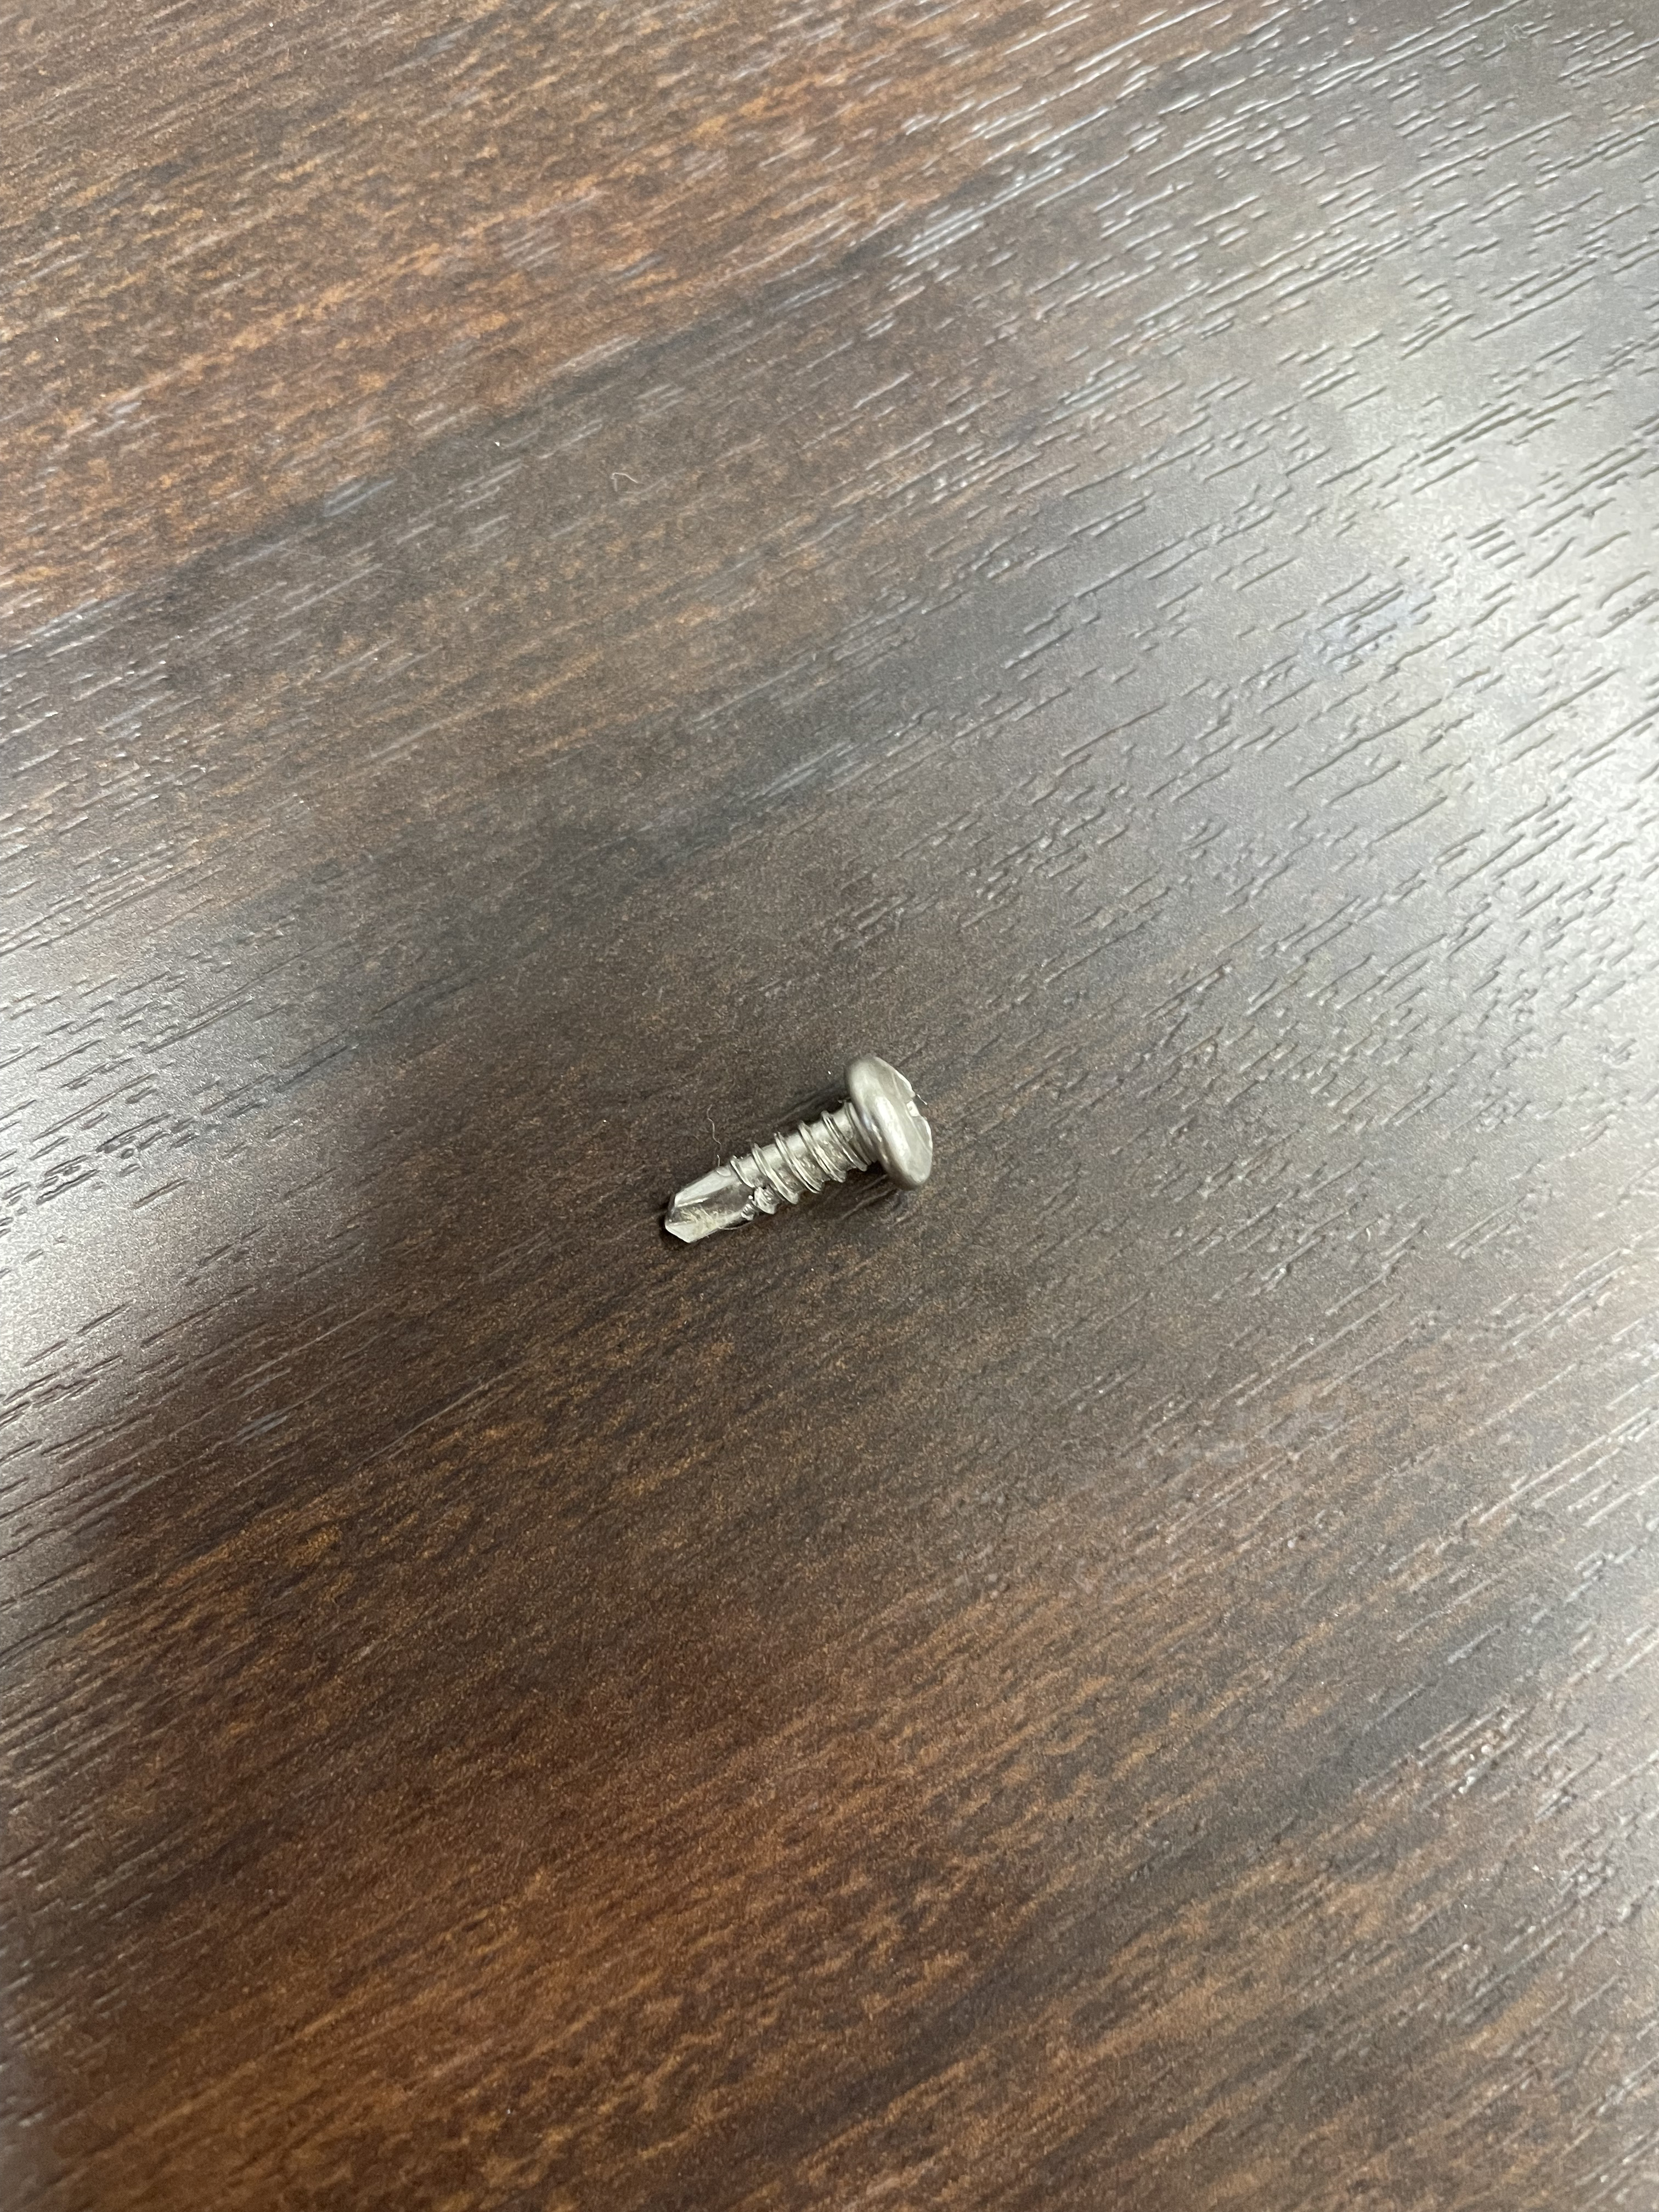screw3: (657, 1052, 937, 1246)
